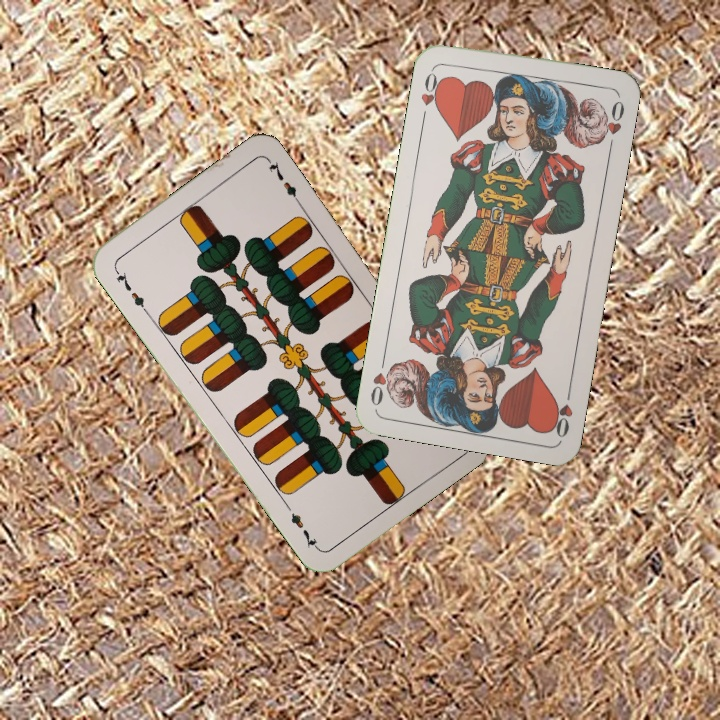E7: (110, 264, 150, 316)
HO: (416, 64, 446, 122), (547, 381, 576, 440)
